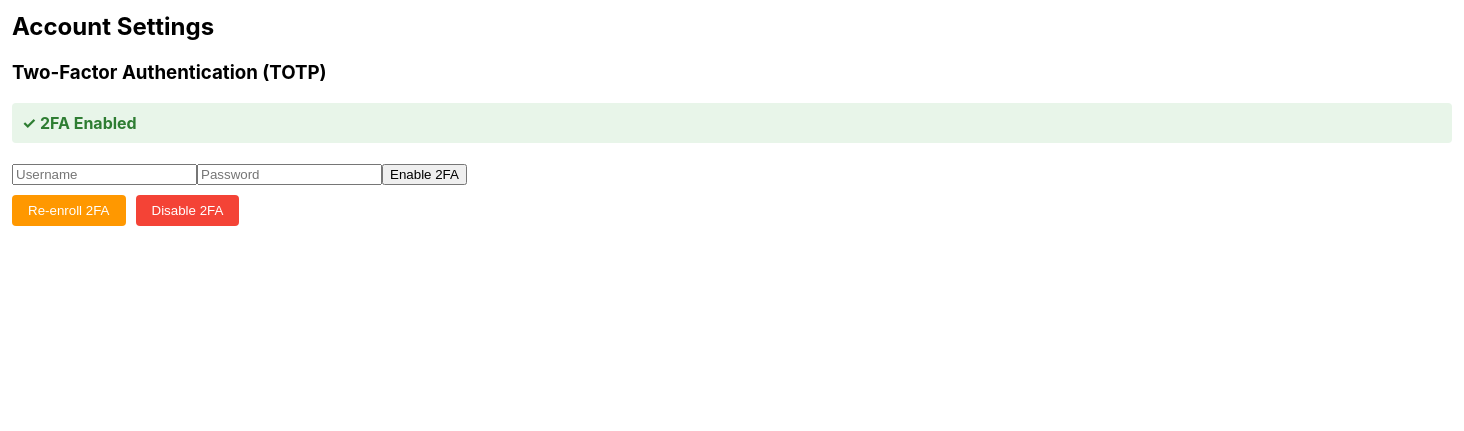
it: Account 2FA Enrollment › disables 2FA with password confirmation
Expected: the text "✓ 2FA Enabled" is shown, x1=22 y1=112 x2=137 y2=132
Note: Click disable button
Click the button "Disable 2FA" at x=187, y=210, box x1=136 y1=194 x2=239 y2=226
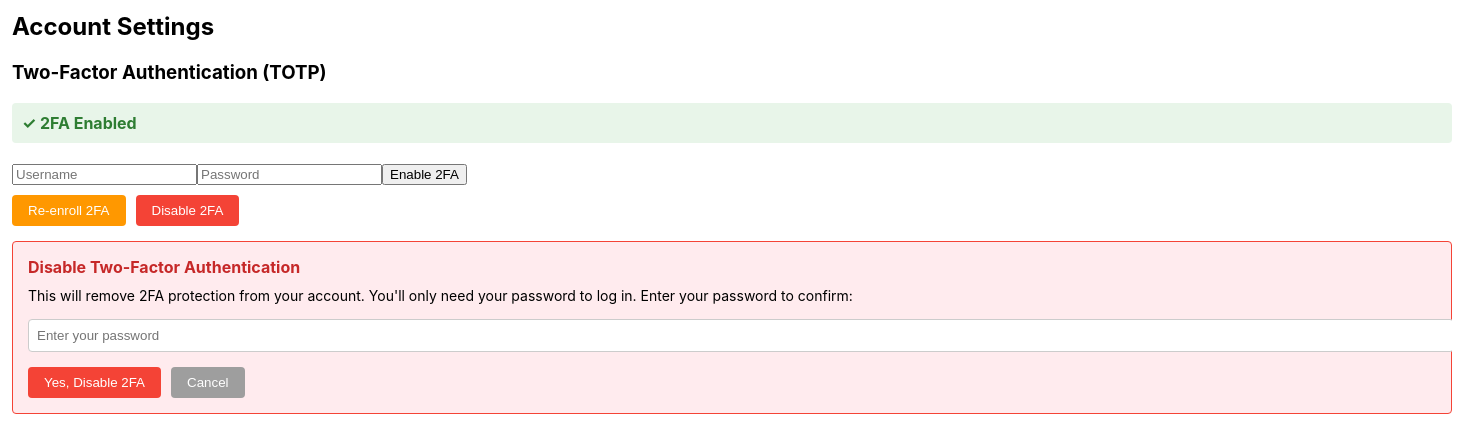
Result: the text "Disable Two-Factor Authentication" is shown at x1=28 y1=256 x2=300 y2=276
Result: the text "This will remove 2FA protection from your account" is shown at x1=28 y1=286 x2=853 y2=304
Note: Fill in username and password
Type "alice" into the field with placeholder "Username" at x=104, y=174, box x1=12 y1=164 x2=197 y2=184
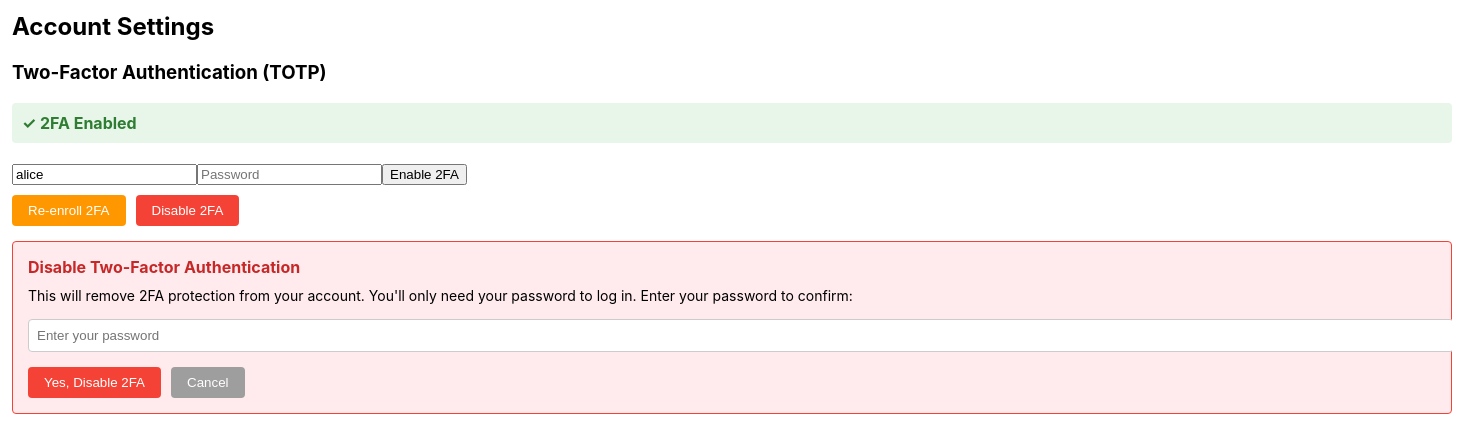
Type "secret" into the password field with placeholder "Enter your password" at x=740, y=335, box x1=28 y1=318 x2=1452 y2=352
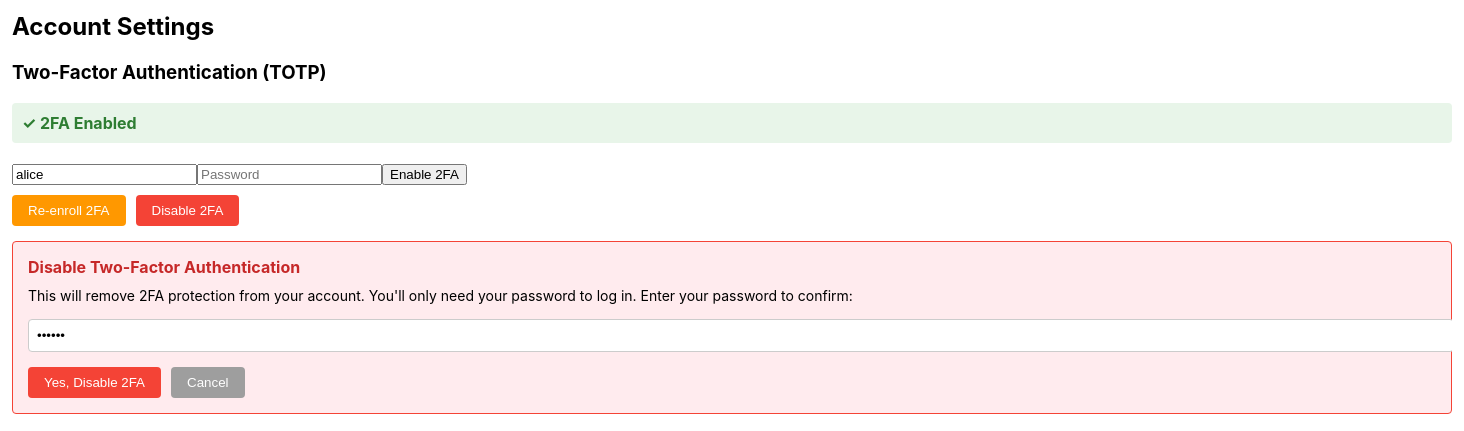
Note: Confirm disable
Click the button "Yes, Disable 2FA" at x=94, y=382, box x1=28 y1=366 x2=161 y2=398
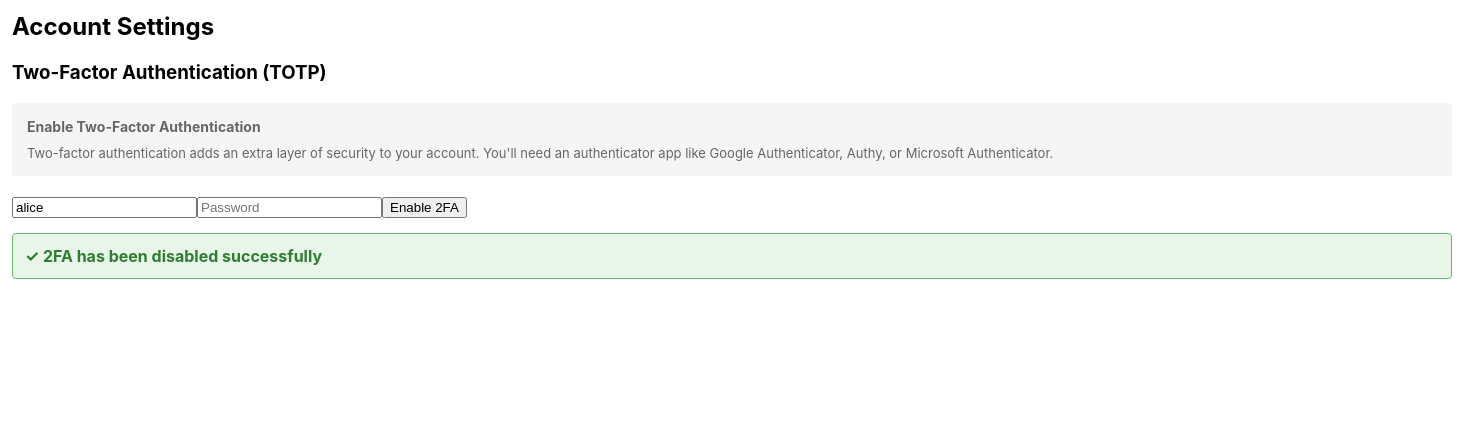
Result: the text "✓ 2FA has been disabled successfully" is shown at x1=25 y1=246 x2=322 y2=266
Result: the text "✓ 2FA Enabled" is gone
